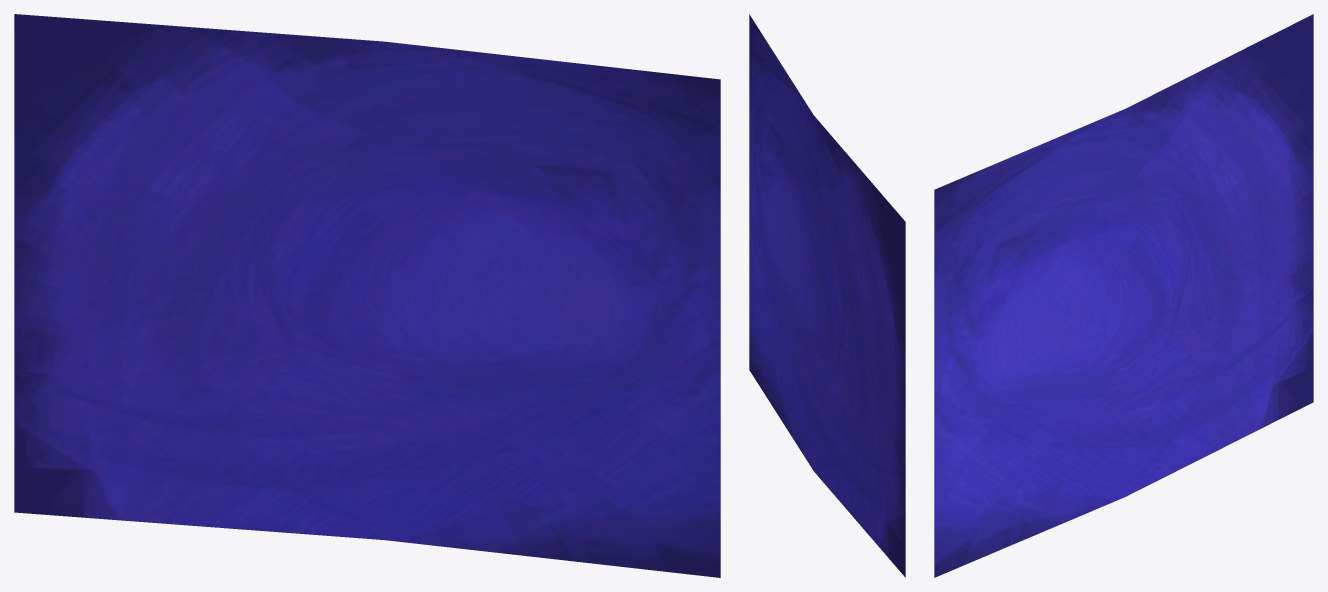
File: SWORDLIGHT20_PS-AREA05-RANGE05_01.fbx
The picture shows the model from 3 angles, left to right: view 1: azimuth 30°, elevation 25°; view 2: azimuth 150°, elevation 25°; view 3: azimuth 270°, elevation 25°; orthographic projection. The views are drawn at different scales.
Parts seen in each view (by area): view 1: SWORDLIGHT20_PS-AREA05-RANGE05_01; view 2: SWORDLIGHT20_PS-AREA05-RANGE05_01; view 3: SWORDLIGHT20_PS-AREA05-RANGE05_01.
Boxes of the visible parts, x1,y1,x2,y2 form: SWORDLIGHT20_PS-AREA05-RANGE05_01: [14, 14, 720, 577]; SWORDLIGHT20_PS-AREA05-RANGE05_01: [749, 14, 905, 577]; SWORDLIGHT20_PS-AREA05-RANGE05_01: [934, 14, 1313, 577].
Size of the model in its own units: 311954 by 321356 by 284589.
Materials: 1 (1 with a texture image).
